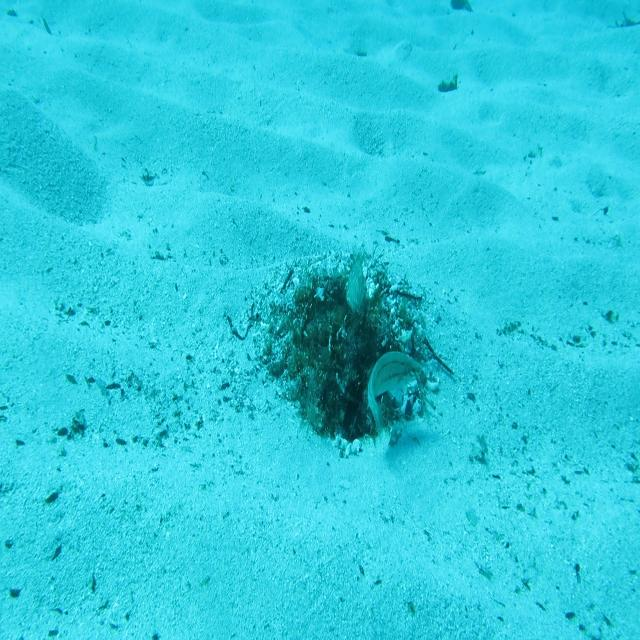NIP_CORE: (344, 247, 368, 314)
core_nest: (319, 289, 367, 343)
female: (365, 348, 424, 446)
nest: (240, 241, 446, 476)
vegetation: (436, 74, 461, 92)
